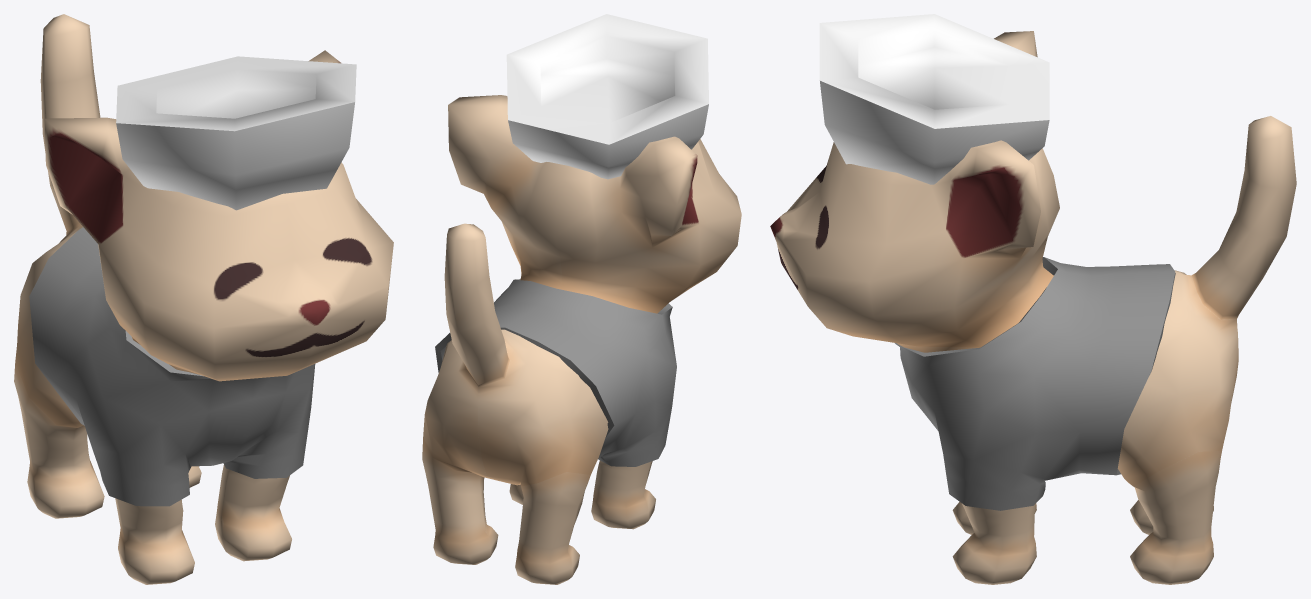
The model's file is Healthy Cat01.fbx.
3 views of the same model, side by side, from view 1: azimuth 30°, elevation 25°; view 2: azimuth 150°, elevation 25°; view 3: azimuth 270°, elevation 25° (orthographic). The views are drawn at different scales.
Visible parts, largest first — view 1: Cat_Base, tshirt001, Healthy_Cat_Hat; view 2: Cat_Base, Healthy_Cat_Hat, tshirt001; view 3: Cat_Base, tshirt001, Healthy_Cat_Hat.
Boxes of the visible parts, left/top/right/bottom form: Cat_Base: left=14, top=14, right=393, bottom=584; tshirt001: left=29, top=227, right=315, bottom=506; Healthy_Cat_Hat: left=116, top=56, right=356, bottom=210; Cat_Base: left=422, top=95, right=741, bottom=584; Healthy_Cat_Hat: left=506, top=14, right=708, bottom=179; tshirt001: left=435, top=279, right=676, bottom=466; Cat_Base: left=770, top=31, right=1296, bottom=584; tshirt001: left=895, top=257, right=1175, bottom=510; Healthy_Cat_Hat: left=819, top=14, right=1049, bottom=184.
Size of the model in its own units: 1.75 by 2.83 by 2.96.
3 materials, 1 textured.
